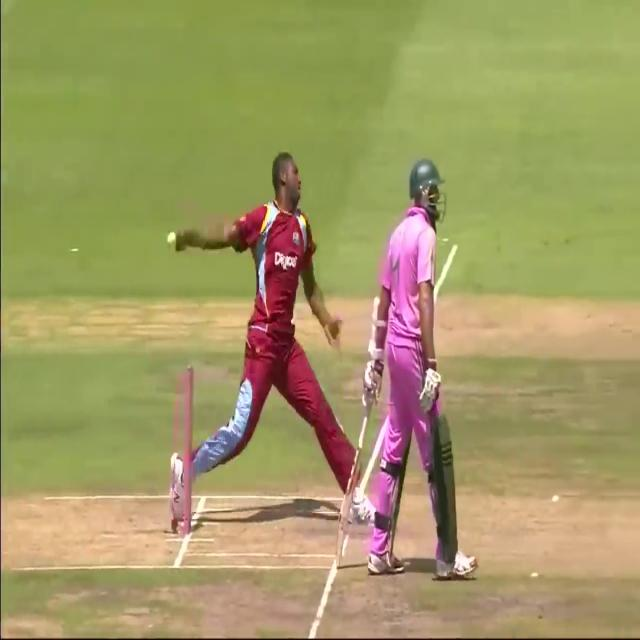Ball: (363, 158, 467, 582)
Fielder: (167, 147, 346, 541)
